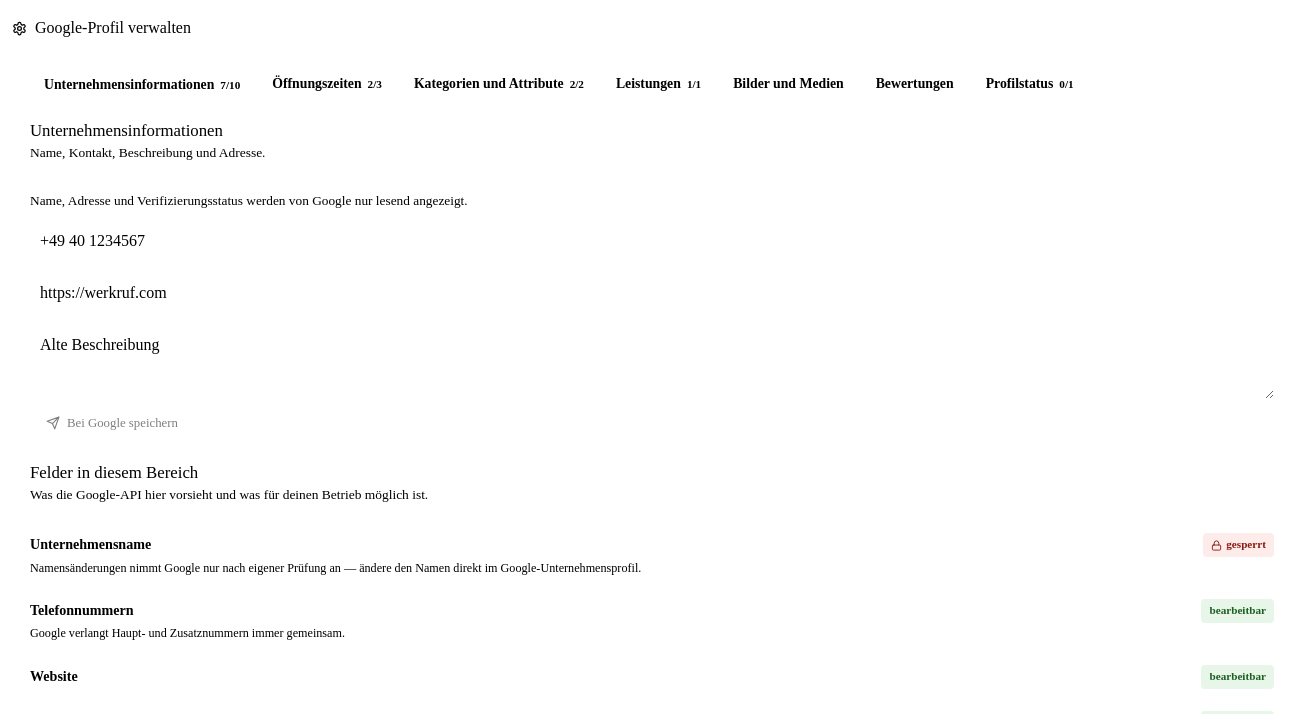
Zustandsdarstellung › haelt Formular und Rueckmeldung nach dem Speichern sichtbar
(page scrolled)
Replace the text in the text box named "Unternehmensbeschreibung" with "Bleibt stehen": (652, 361) [30, 323, 1274, 399]
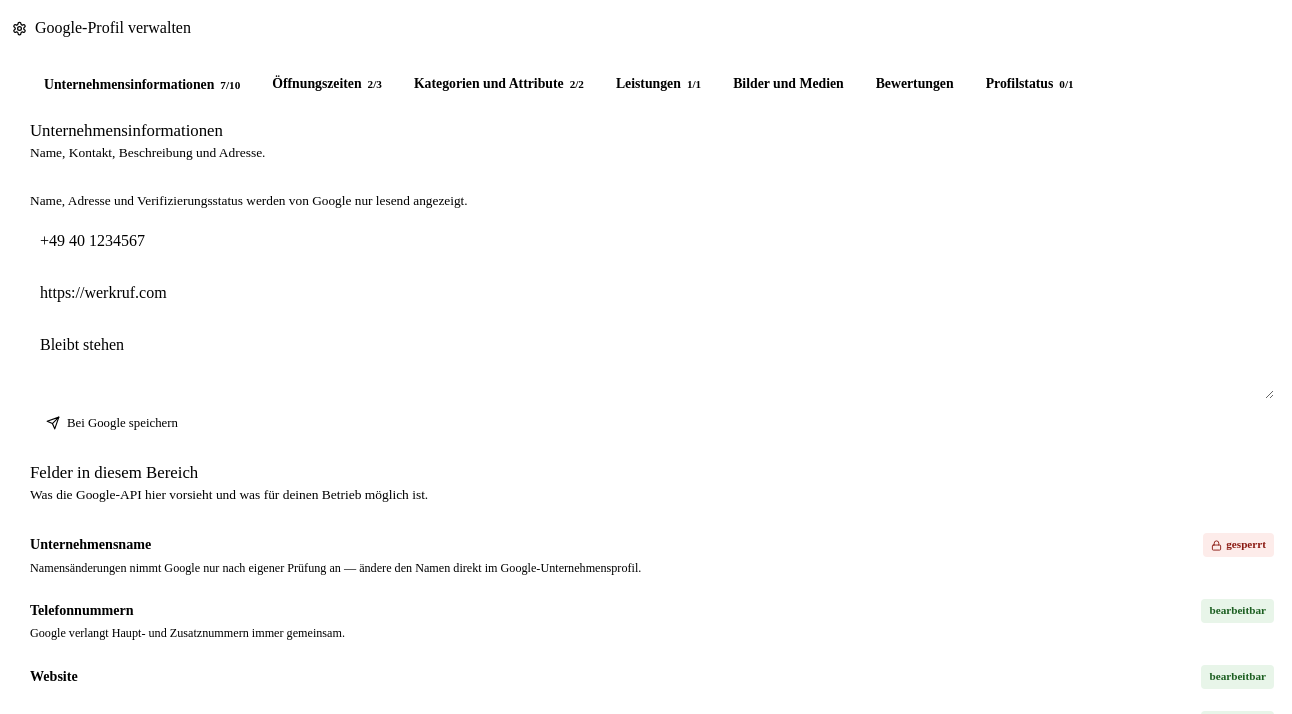
Click the button "Bei Google speichern": (112, 423) [30, 407, 194, 440]
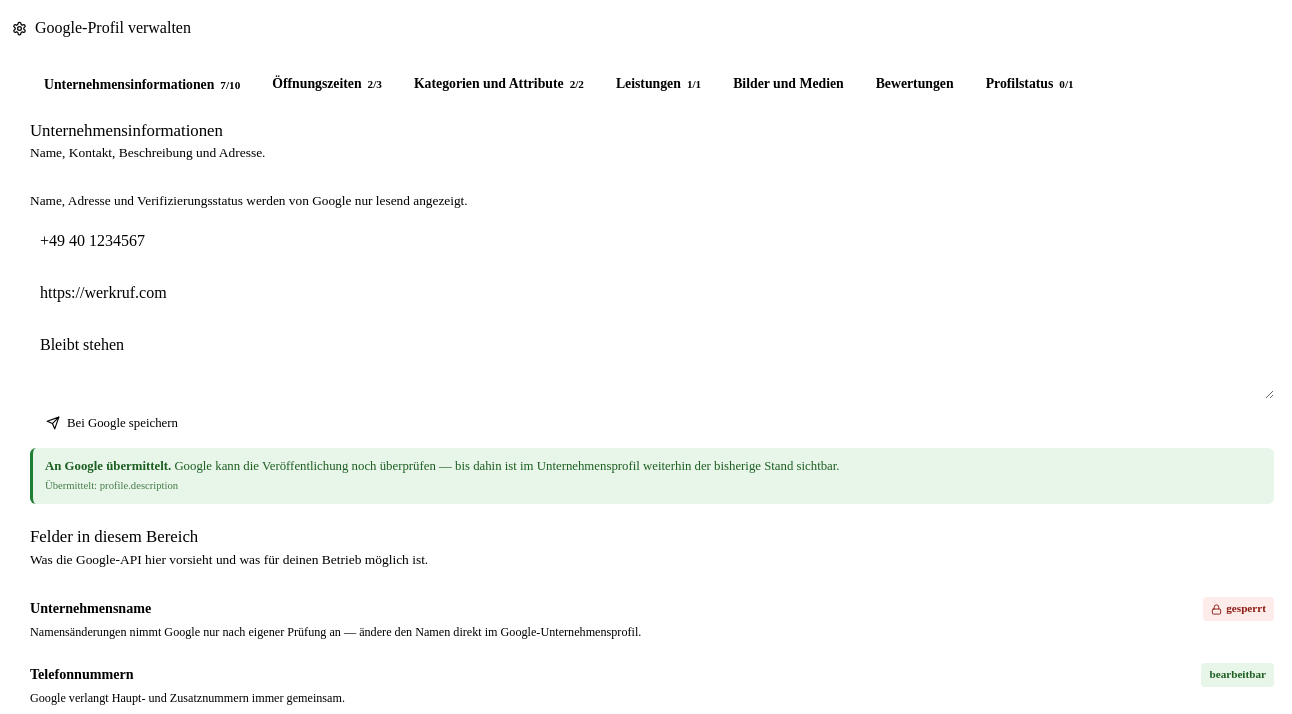
Now the text "An Google übermittelt." is shown, box [45, 459, 171, 473]
